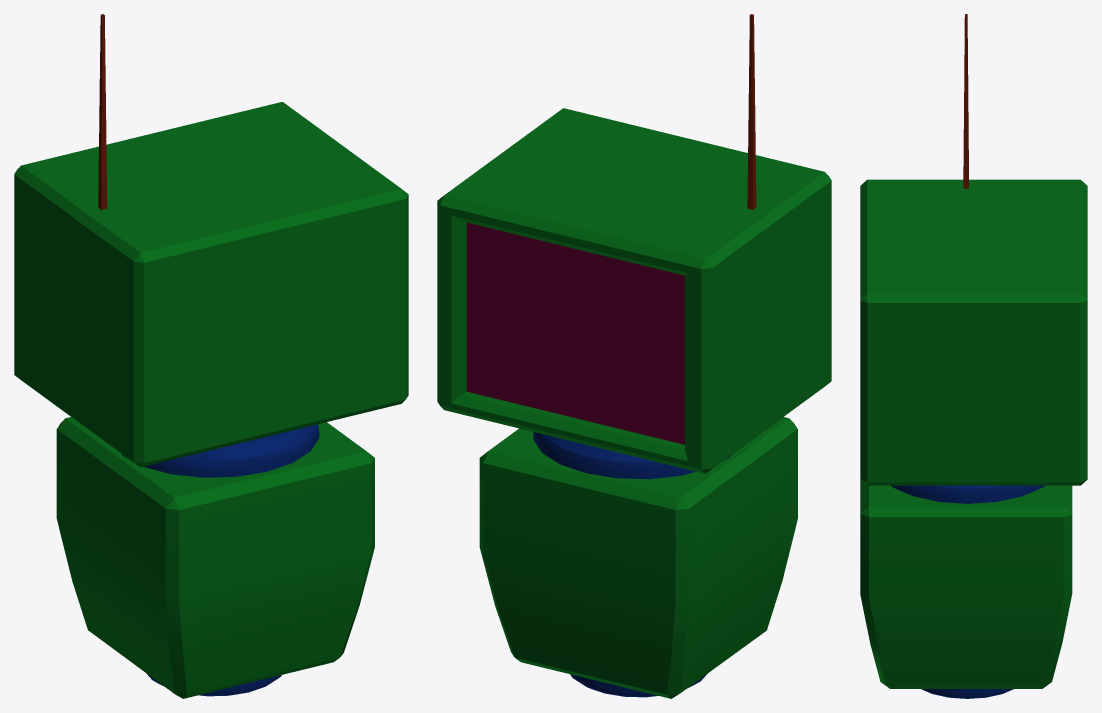
File: ROBOT_V2.fbx
3 renders of one model, left to right at view 1: azimuth 30°, elevation 25°; view 2: azimuth 150°, elevation 25°; view 3: azimuth 270°, elevation 25°, orthographic. The views are drawn at different scales.
Parts seen in each view (by area): view 1: ROBOT; view 2: ROBOT; view 3: ROBOT.
Boxes of the visible parts, x1,y1,x2,y2 form: ROBOT: (14, 14, 408, 698); ROBOT: (437, 14, 831, 698); ROBOT: (860, 14, 1087, 698).
Size of the model in its own units: 1.32 by 3.19 by 1.05.
